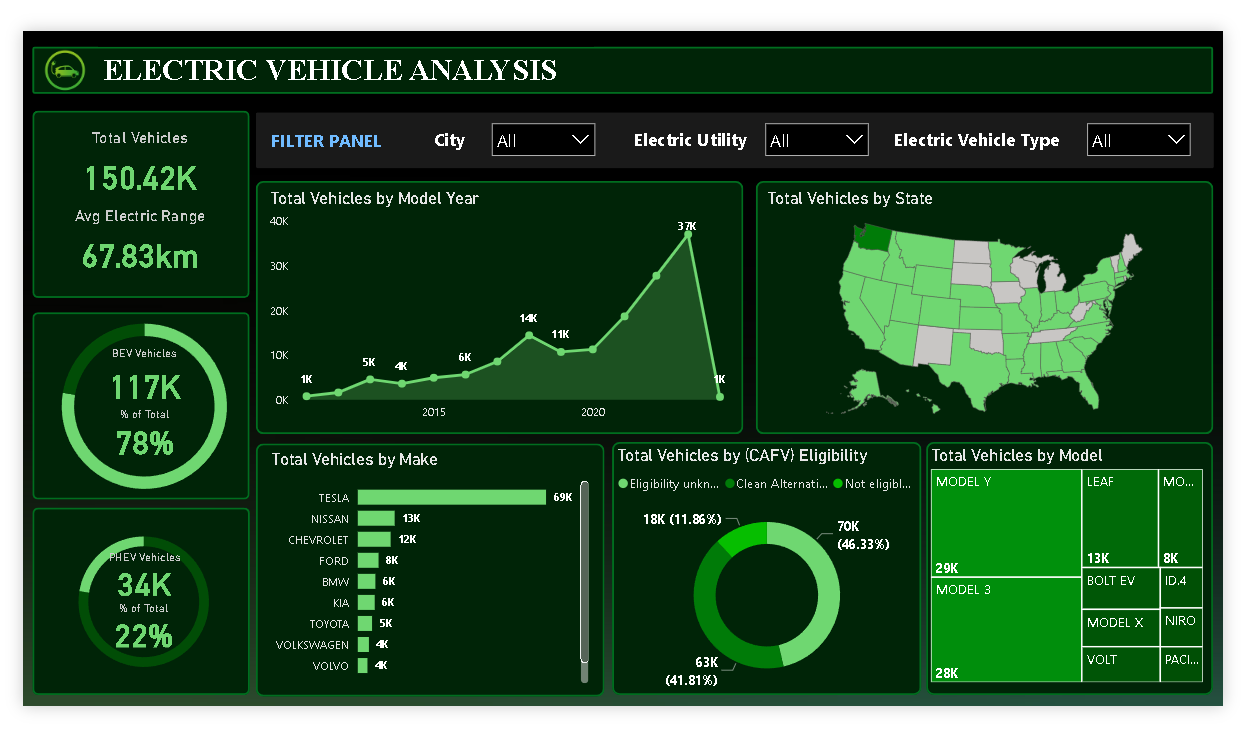

The page's visual inventory and layout, read from the dashboard file:
{"tool":"powerbi","page":{"name":"Page 1","canvas":[1280,720],"ordinal":0},"visuals":[{"type":"shape","box":[10.1,16.8,1259.5,50.4],"z":0},{"type":"textbox","box":[80,16,528,50],"z":1000},{"type":"shape","box":[10.1,85.6,231.7,199.8],"z":2000},{"type":"card","title":"Total Vehicles","fields":{"Values":["Electric_Vehicle_Population_Data.Total Vehicles"]},"box":[23.5,104.1,203.2,82.3],"z":3000},{"type":"card","title":"Avg Electric Range","fields":{"Values":["Electric_Vehicle_Population_Data.Avg Range"]},"box":[23.5,186.4,203.2,82.3],"z":4000},{"type":"shape","box":[10.1,300.6,231.7,199.8],"z":5000},{"type":"shape","box":[10,508,232,200],"z":6000},{"type":"donutChart","fields":{"Category":["Electric_Vehicle_Population_Data.Electric Vehicle Type"],"Y":["Electric_Vehicle_Population_Data.Total Vehicles"]},"box":[0,285.4,258.6,230.4],"z":7000},{"type":"card","title":"BEV Vehicles","fields":{"Values":["Electric_Vehicle_Population_Data.BEV Vehicles"]},"box":[80.6,335.9,99.1,65.5],"z":8000},{"type":"card","title":"% of Total","fields":{"Values":["Electric_Vehicle_Population_Data.% Of BEV"]},"box":[80.6,401.3,99.1,55.4],"z":9000},{"type":"donutChart","fields":{"Category":["Electric_Vehicle_Population_Data.Electric Vehicle Type"],"Y":["Electric_Vehicle_Population_Data.Total Vehicles"]},"box":[16,516,224,184],"z":10000},{"type":"card","title":"PHEV Vehicles","fields":{"Values":["Electric_Vehicle_Population_Data.PHEV Vehicles"]},"box":[80,554,100,54],"z":11000},{"type":"card","title":"% of Total","fields":{"Values":["Electric_Vehicle_Population_Data.% Of PHEV"]},"box":[86,608,84,54],"z":12000},{"type":"shape","box":[248,86,1022,60],"z":13000},{"type":"shape","box":[248,160,520,270],"z":14000},{"type":"areaChart","fields":{"Category":["Electric_Vehicle_Population_Data.Model Year"],"Y":["Electric_Vehicle_Population_Data.Total Vehicles"]},"box":[258,168,502,256],"z":15000},{"type":"shape","box":[782,160,488,270],"z":16000},{"type":"shapeMap","fields":{"Category":["Electric_Vehicle_Population_Data.State"],"Value":["Electric_Vehicle_Population_Data.Total Vehicles"]},"box":[788,168,474,256],"z":17000},{"type":"shape","box":[248,440,372,270],"z":18000},{"type":"barChart","fields":{"Category":["Electric_Vehicle_Population_Data.Make"],"Y":["Electric_Vehicle_Population_Data.Total Vehicles"]},"box":[260,446,348,254],"z":19000},{"type":"shape","box":[628,438,330,270],"z":20000},{"type":"donutChart","title":"Total Vehicles by (CAFV) Eligibility","fields":{"Category":["Electric_Vehicle_Population_Data.Clean Alternative Fuel Vehicle (CAFV) Eligibility"],"Y":["Electric_Vehicle_Population_Data.Total Vehicles"]},"box":[628,442,330,270],"z":21000},{"type":"shape","box":[964,438,306,270],"z":22000},{"type":"treemap","fields":{"Group":["Electric_Vehicle_Population_Data.Model"],"Values":["Electric_Vehicle_Population_Data.Total Vehicles"]},"box":[964,442,300,258],"z":23000},{"type":"textbox","box":[260,98,140,42],"z":24000},{"type":"slicer","fields":{"Values":["Electric_Vehicle_Population_Data.City"]},"box":[490,88,130,50],"z":25000},{"type":"textbox","box":[420,96,70,42],"z":26000},{"type":"slicer","fields":{"Values":["Electric_Vehicle_Population_Data.Electric Utility"]},"box":[782,88,130,50],"z":27000},{"type":"textbox","box":[620,96,184,42],"z":28000},{"type":"slicer","fields":{"Values":["Electric_Vehicle_Population_Data.Electric Vehicle Type"]},"box":[1124.4,89,130,50],"z":29000},{"type":"textbox","box":[912,96,212,42],"z":30000},{"type":"image","box":[16.3,14.9,56.5,53.5],"z":31000}]}

Visuals, with their boxes on the page's 1280x720 design canvas (x1, y1, x2, y2). These are canvas units, not pixel positions in the 1248x738 screenshot, which may show the page scaled, cropped or inside an application window:
shape: <region>10, 17, 1270, 67</region>
textbox: <region>80, 16, 608, 66</region>
shape: <region>10, 86, 242, 285</region>
"Total Vehicles" card: <region>24, 104, 227, 186</region>
"Avg Electric Range" card: <region>24, 186, 227, 269</region>
shape: <region>10, 301, 242, 500</region>
shape: <region>10, 508, 242, 708</region>
donutChart - Electric_Vehicle_Population_Data.Electric Vehicle Type x Electric_Vehicle_Population_Data.Total Vehicles: <region>0, 285, 259, 516</region>
"BEV Vehicles" card: <region>81, 336, 180, 401</region>
"% of Total" card: <region>81, 401, 180, 457</region>
donutChart - Electric_Vehicle_Population_Data.Electric Vehicle Type x Electric_Vehicle_Population_Data.Total Vehicles: <region>16, 516, 240, 700</region>
"PHEV Vehicles" card: <region>80, 554, 180, 608</region>
"% of Total" card: <region>86, 608, 170, 662</region>
shape: <region>248, 86, 1270, 146</region>
shape: <region>248, 160, 768, 430</region>
areaChart - Electric_Vehicle_Population_Data.Model Year x Electric_Vehicle_Population_Data.Total Vehicles: <region>258, 168, 760, 424</region>
shape: <region>782, 160, 1270, 430</region>
shapeMap - Electric_Vehicle_Population_Data.State x Electric_Vehicle_Population_Data.Total Vehicles: <region>788, 168, 1262, 424</region>
shape: <region>248, 440, 620, 710</region>
barChart - Electric_Vehicle_Population_Data.Make x Electric_Vehicle_Population_Data.Total Vehicles: <region>260, 446, 608, 700</region>
shape: <region>628, 438, 958, 708</region>
"Total Vehicles by (CAFV) Eligibility" donutChart: <region>628, 442, 958, 712</region>
shape: <region>964, 438, 1270, 708</region>
treemap - Electric_Vehicle_Population_Data.Model x Electric_Vehicle_Population_Data.Total Vehicles: <region>964, 442, 1264, 700</region>
textbox: <region>260, 98, 400, 140</region>
slicer - Electric_Vehicle_Population_Data.City: <region>490, 88, 620, 138</region>
textbox: <region>420, 96, 490, 138</region>
slicer - Electric_Vehicle_Population_Data.Electric Utility: <region>782, 88, 912, 138</region>
textbox: <region>620, 96, 804, 138</region>
slicer - Electric_Vehicle_Population_Data.Electric Vehicle Type: <region>1124, 89, 1254, 139</region>
textbox: <region>912, 96, 1124, 138</region>
image: <region>16, 15, 73, 68</region>
